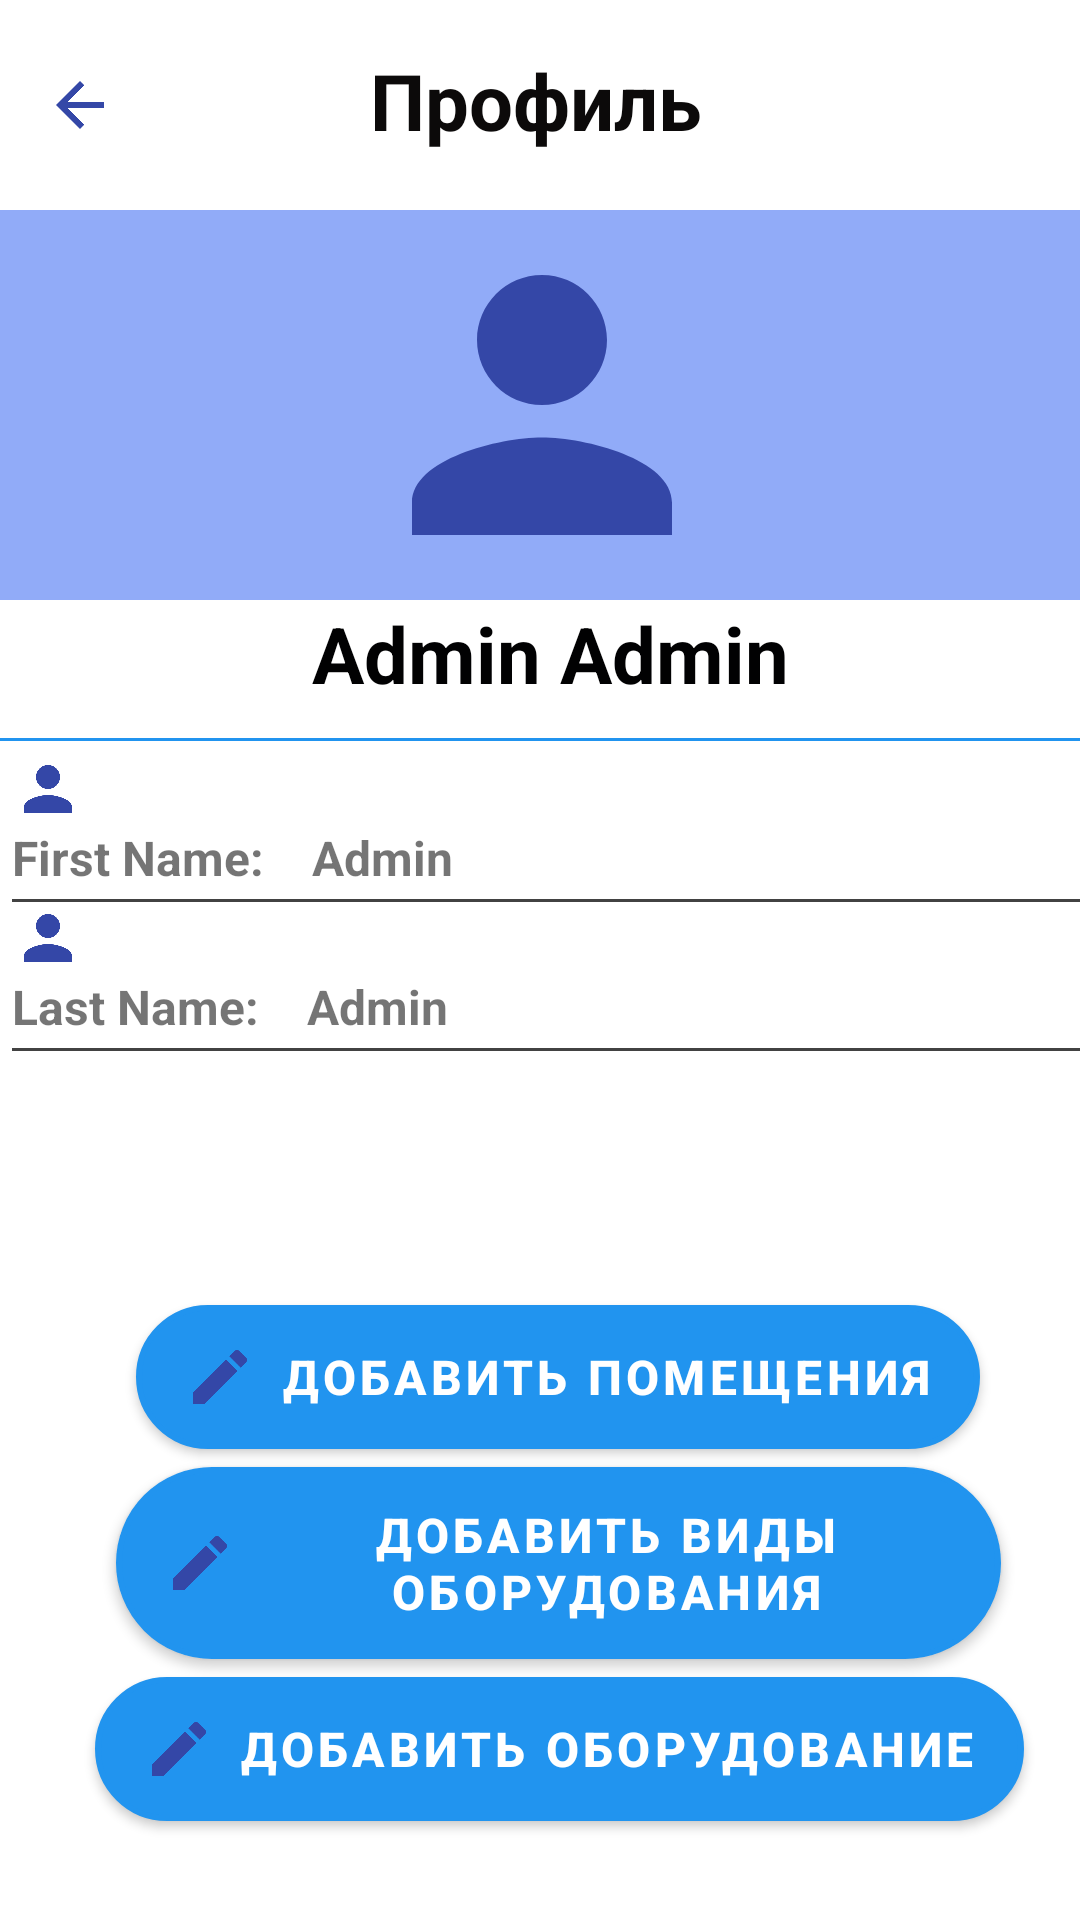

Screen size 1080*1920. Icon name, then its center in pixels as (x,y):
arrow back: (80,105)
